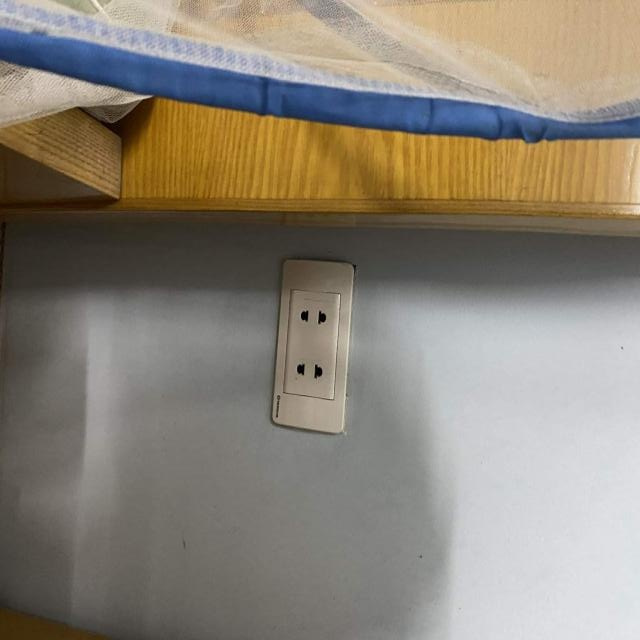outlet: (271, 258, 355, 434)
